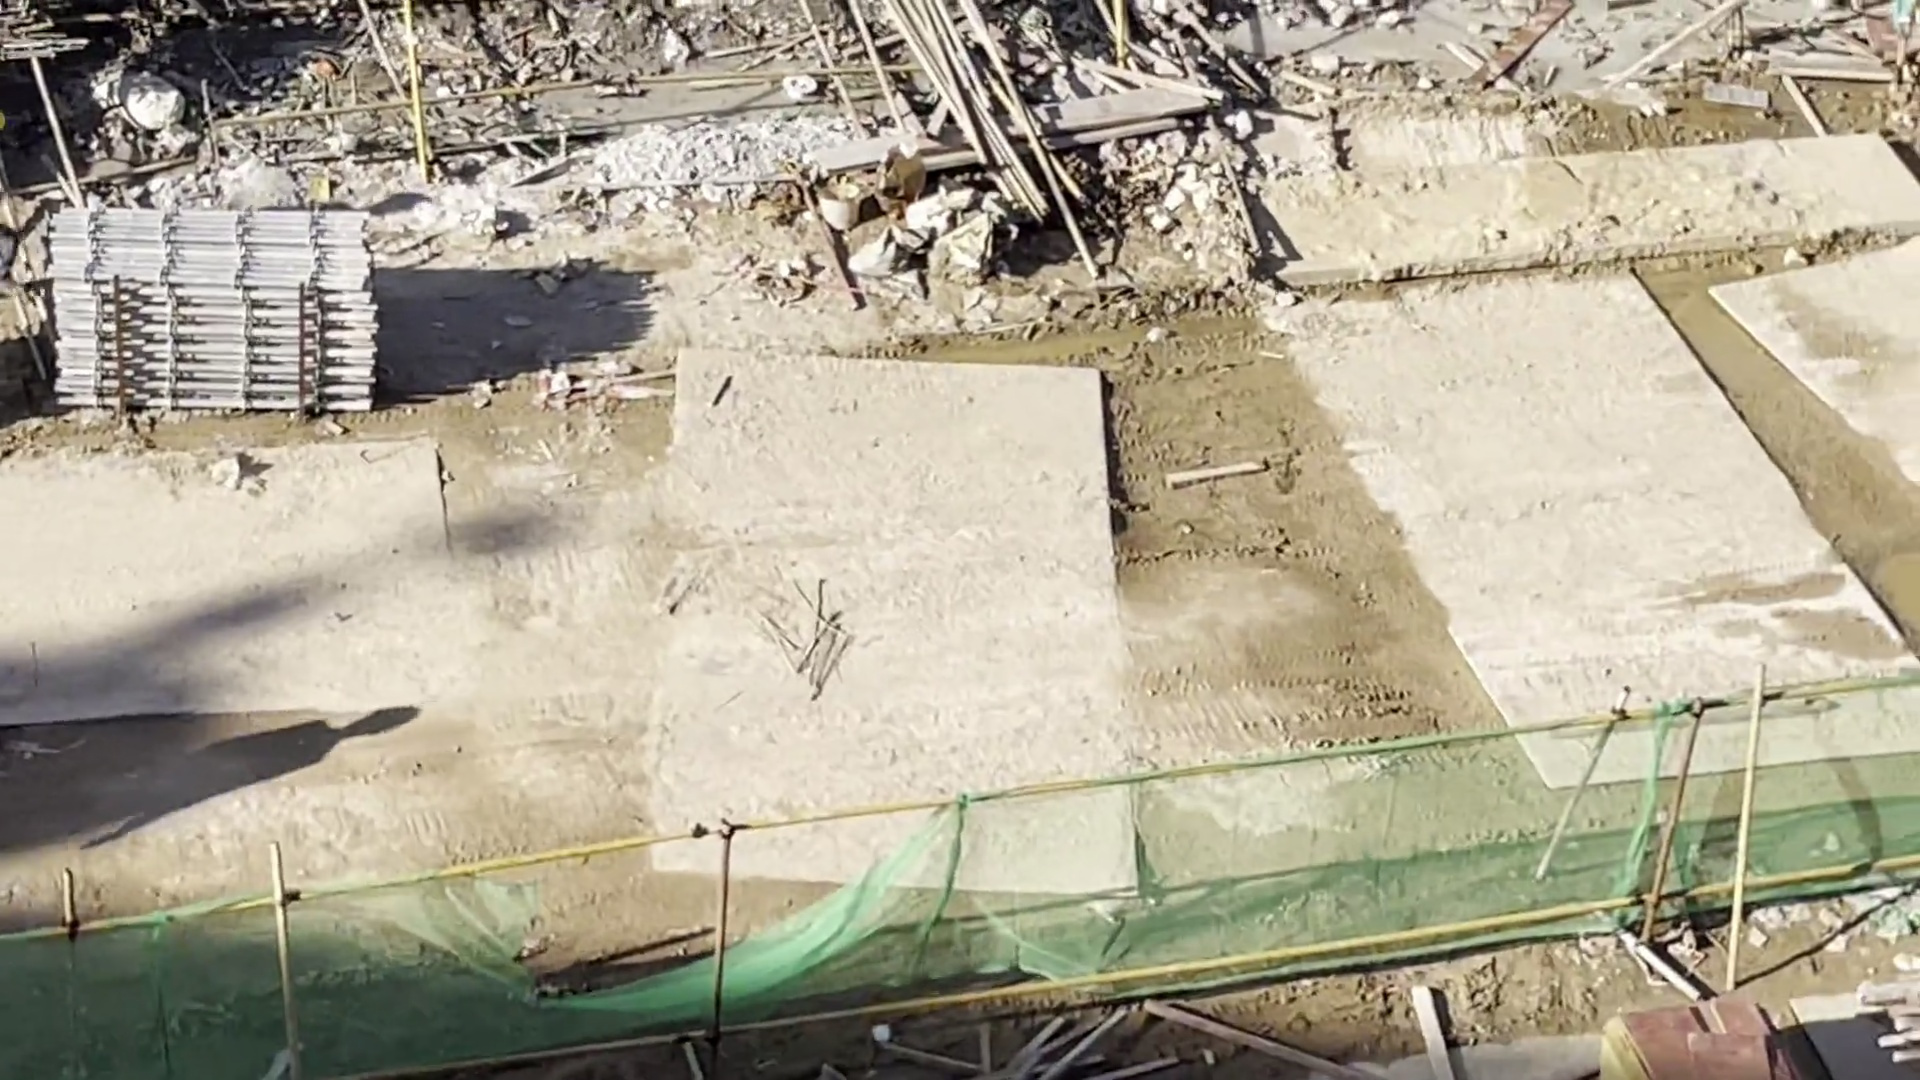board: (1575, 998, 1811, 1080)
scaffold: (36, 196, 417, 425)
